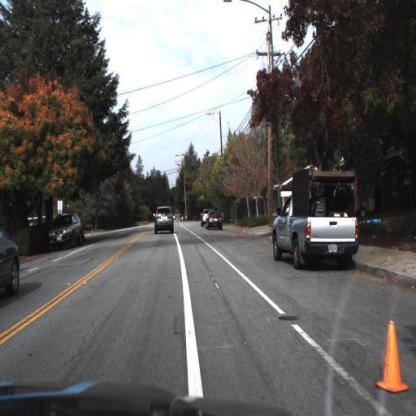car: (269, 161, 361, 267), (1, 221, 22, 302), (49, 211, 85, 250), (154, 206, 177, 238), (206, 209, 224, 234), (198, 206, 209, 232)
